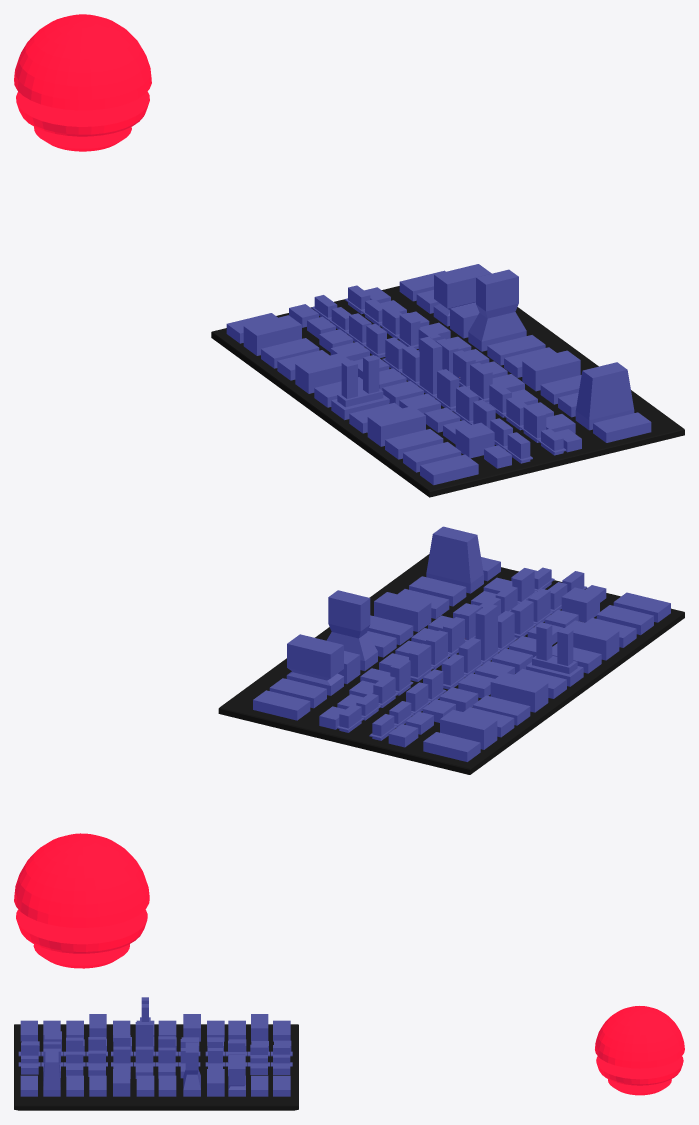
3 views of the same model, one above another, from view 1: azimuth 30°, elevation 25°; view 2: azimuth 150°, elevation 25°; view 3: azimuth 270°, elevation 25° (orthographic). The views are drawn at different scales.
Parts seen in each view (by area): view 1: Buildings, debug_sphere, Platform01; view 2: Buildings, debug_sphere, Platform01; view 3: Buildings, Platform01, debug_sphere.
Boxes of the visible parts, x1,y1,x2,y2 form: Buildings: (226, 264, 651, 485); debug_sphere: (14, 14, 151, 151); Platform01: (211, 286, 684, 497); Buildings: (253, 526, 670, 761); debug_sphere: (14, 833, 149, 968); Platform01: (218, 554, 684, 774); Buildings: (18, 997, 292, 1096); Platform01: (14, 1024, 298, 1110); debug_sphere: (595, 1006, 684, 1095).
Size of what is drawn, in the model's own units: 1953 by 831 by 6813.
